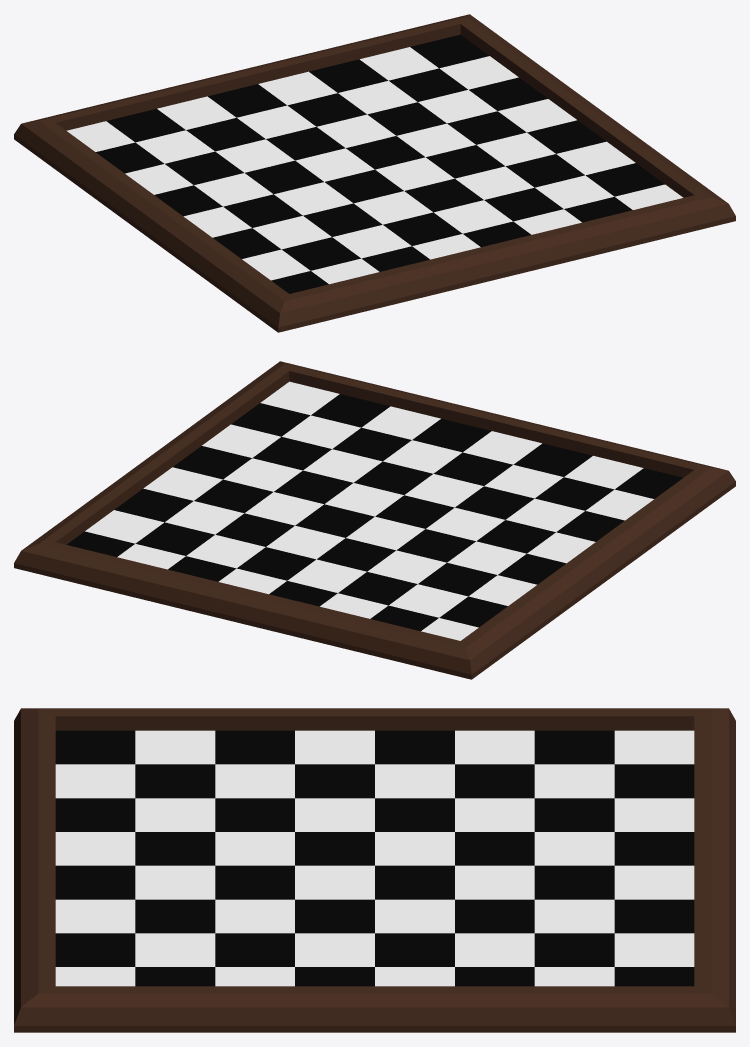
The model's file is chessboard.glb.
3 views of the same model, one above another, from view 1: azimuth 30°, elevation 25°; view 2: azimuth 150°, elevation 25°; view 3: azimuth 270°, elevation 25° (orthographic). The views are drawn at different scales.
Parts seen in each view (by area): view 1: Board_Frame; view 2: Board_Frame; view 3: Board_Frame.
Part boxes in pixels (box(x1,y1,x2,y2)): Board_Frame: box(14, 14, 735, 332); Board_Frame: box(14, 361, 735, 679); Board_Frame: box(14, 708, 735, 1032).
Bounding box in the file's own units: 10.85 × 0.48 × 10.85.
